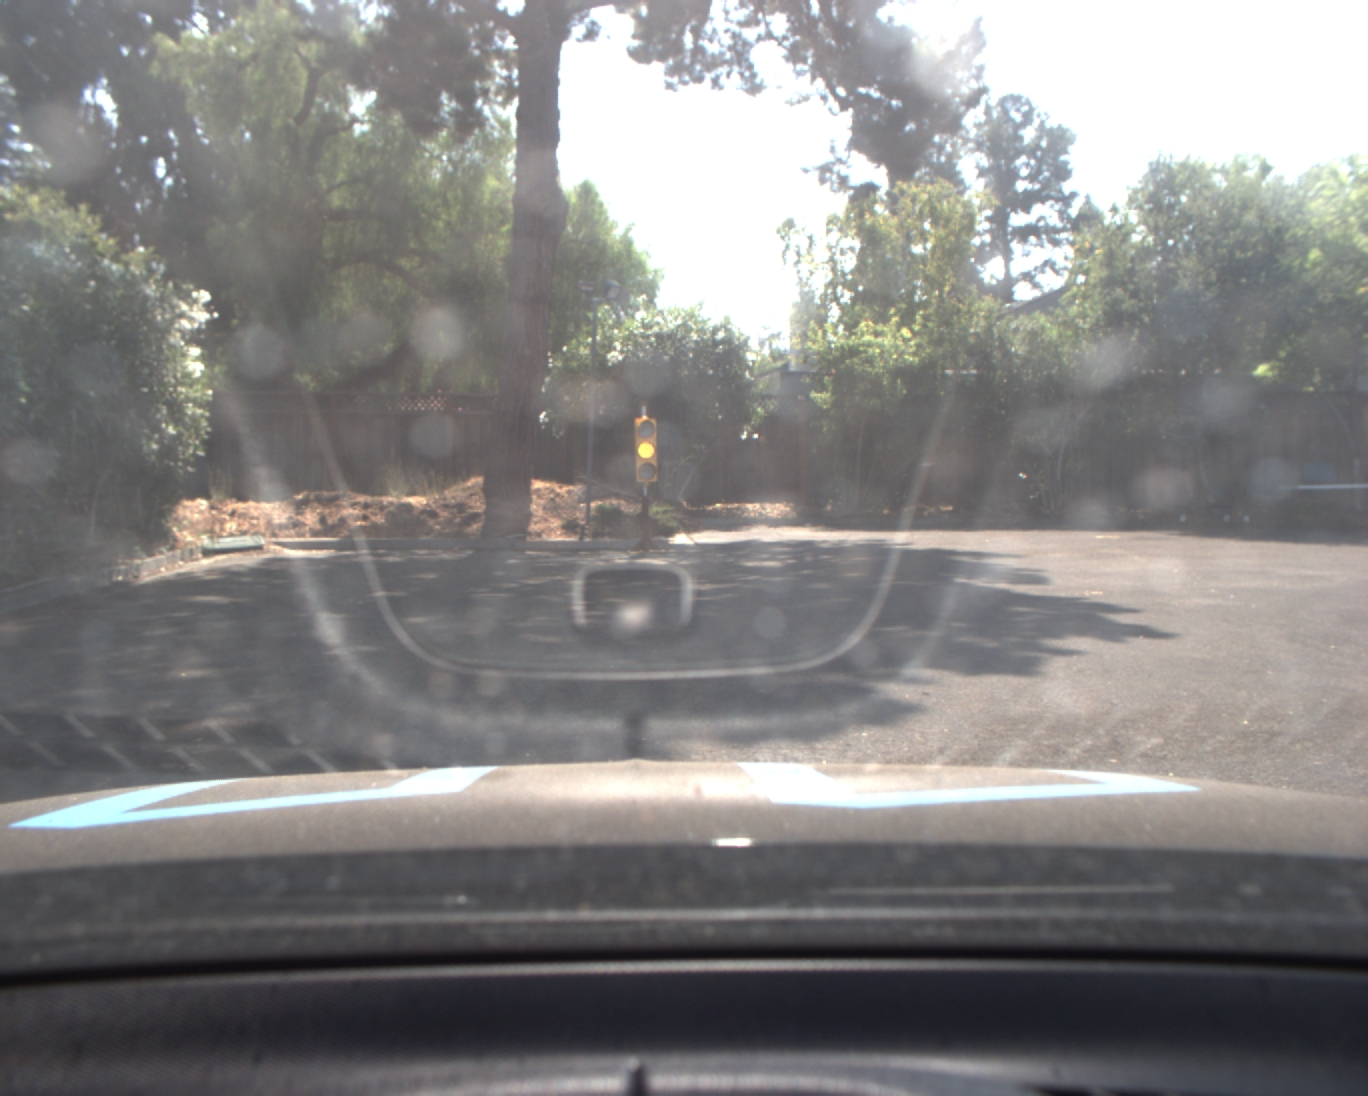yellow: (631, 417, 665, 486)
